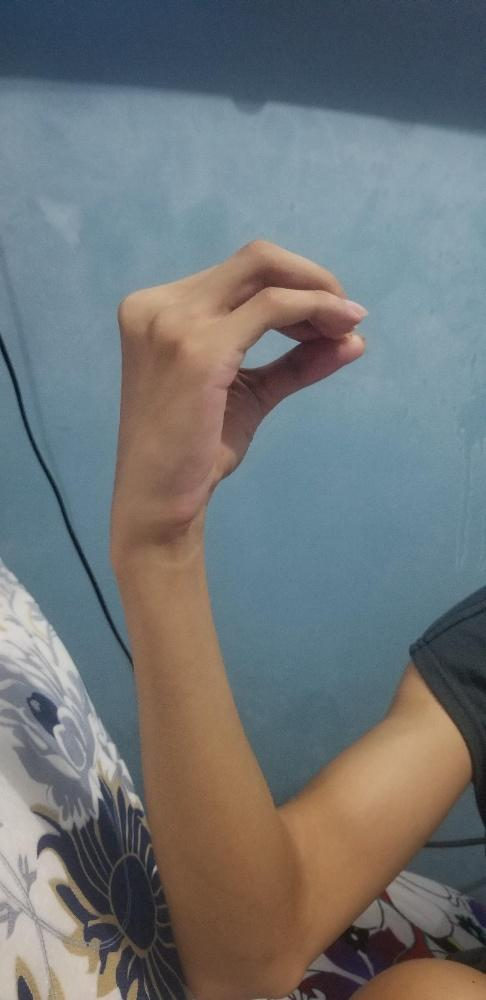o: (105, 233, 370, 539)
